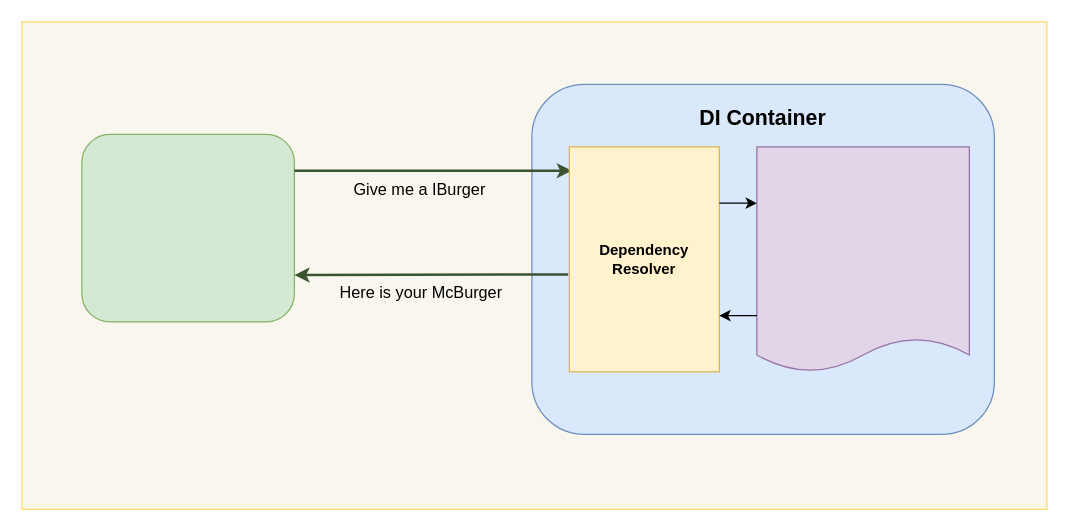
Image size: 1069x531. Some labels were removed from this diagram. Here are the shapes that lost their labels. From the top down, the centre of each, then its label:
At point 187,227: "Your code".
At point 862,259: "Implementations: MacDonaldsBurger BurgerKingsBurger YourMamasBurger . . .".
